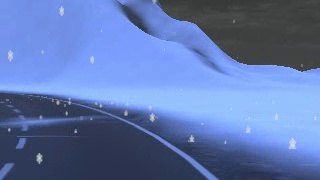Lane: (0, 91, 214, 179)
